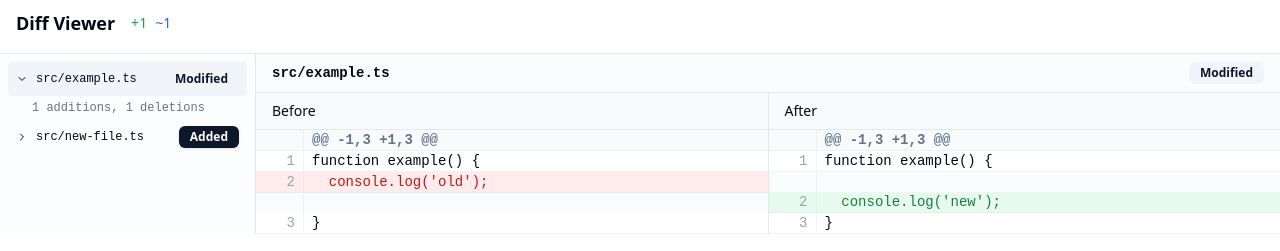
Test: DiffViewer › allows file selection by clicking
This screenshot has width=1280, height=251.
# Click the first occurrence (sidebar entry)
Click the text "src/new-file.ts": (90, 137) left=36, top=130, right=144, bottom=144
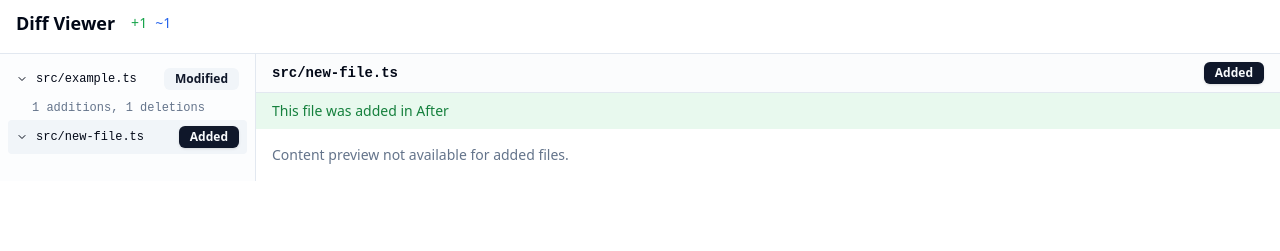
Check: the text "Content preview not available for added files." is shown, box left=272, top=145, right=569, bottom=164
